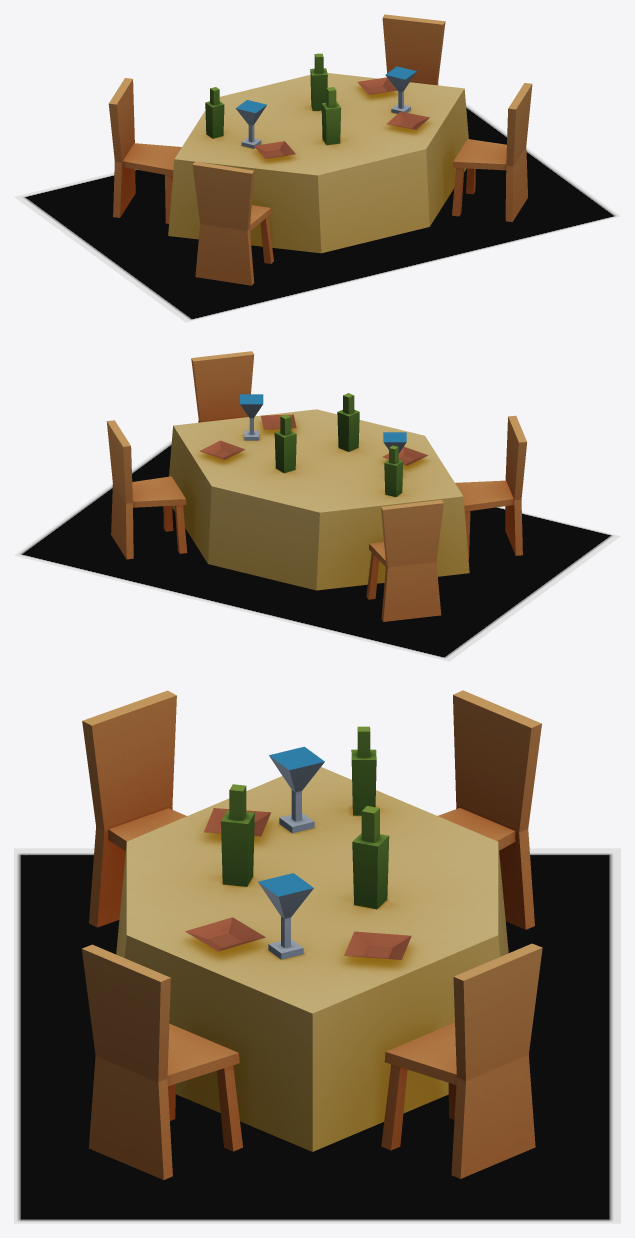
File: 3x2_table_v1.FBX
3 renders of one model, top to bottom at view 1: azimuth 30°, elevation 25°; view 2: azimuth 150°, elevation 25°; view 3: azimuth 270°, elevation 25°, orthographic. The views are drawn at different scales.
Visible parts, largest first — view 1: 3x2_table_v1, 3x2_table_v1_soft_shadow; view 2: 3x2_table_v1, 3x2_table_v1_soft_shadow; view 3: 3x2_table_v1, 3x2_table_v1_soft_shadow.
Boxes of the visible parts, x1,y1,x2,y2 form: 3x2_table_v1: (108,14,532,285); 3x2_table_v1_soft_shadow: (14,103,620,322); 3x2_table_v1: (106,351,526,621); 3x2_table_v1_soft_shadow: (14,440,620,661); 3x2_table_v1: (81,690,542,1179); 3x2_table_v1_soft_shadow: (14,848,620,1223).
Size of the model in its own units: 3803 by 1149 by 2598.
